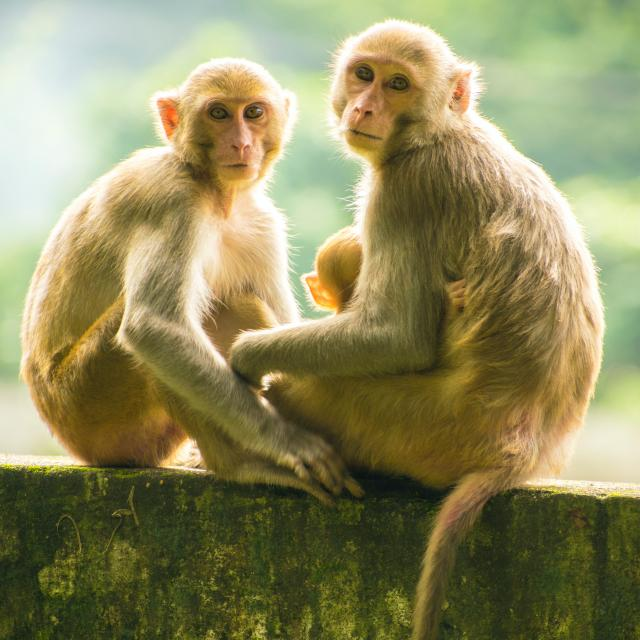monkey: (304, 22, 610, 605), (96, 72, 344, 486)
